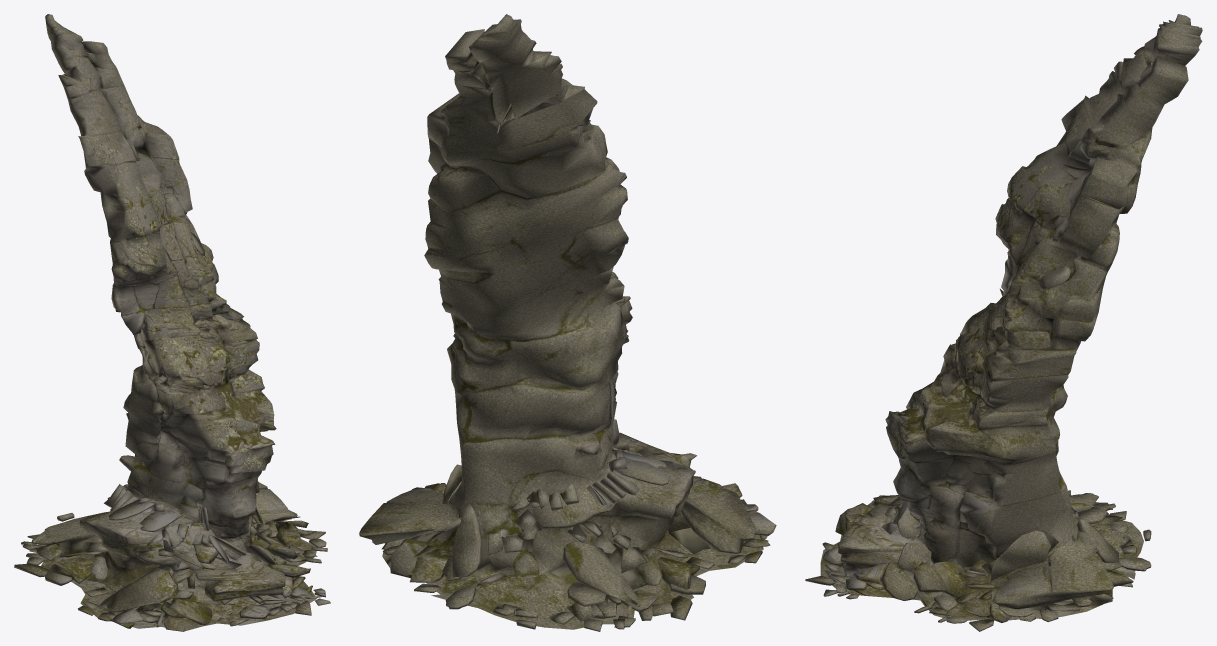
File: nat-rock-b.glb
3 views of the same model, side by side, from view 1: azimuth 30°, elevation 25°; view 2: azimuth 150°, elevation 25°; view 3: azimuth 270°, elevation 25° (orthographic). The views are drawn at different scales.
Bounding box in the file's own units: 0.5425 × 0.9521 × 0.6523.
Materials: 1 (1 with a texture image).
